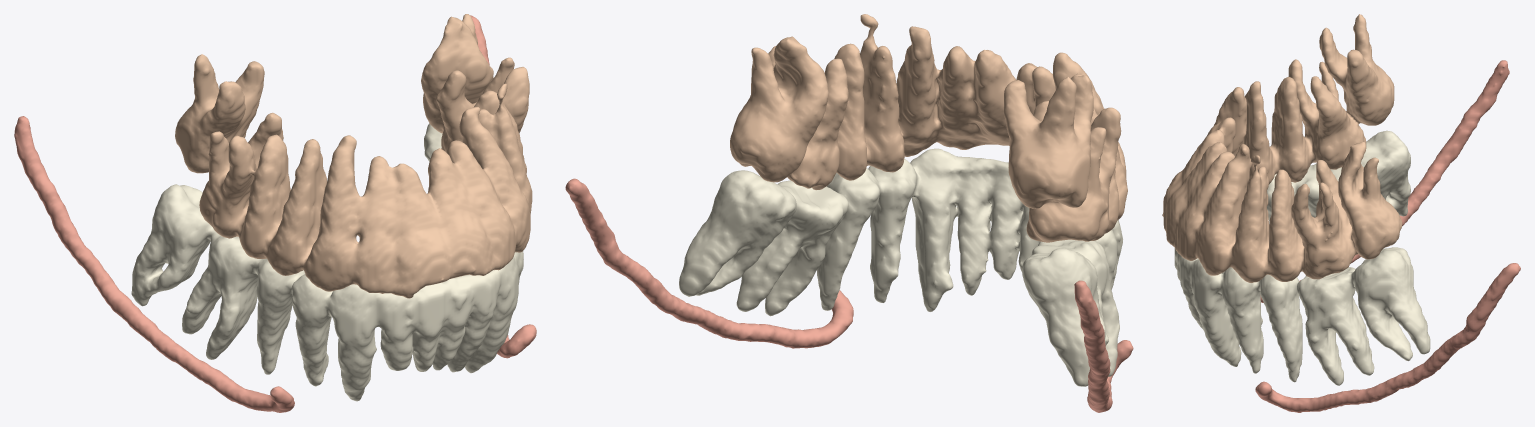
File: Surgical_Nerve_Clearance_scene.glb
The picture shows the model from 3 angles, left to right: view 1: azimuth 30°, elevation 25°; view 2: azimuth 150°, elevation 25°; view 3: azimuth 270°, elevation 25°; orthographic projection. The views are drawn at different scales.
Visible parts, largest first — view 1: upper_teeth, lower_teeth, mandibular_canal; view 2: upper_teeth, lower_teeth, mandibular_canal; view 3: upper_teeth, lower_teeth, mandibular_canal.
Part boxes in pixels (box(x1,y1,x2,y2)): upper_teeth: box(175, 14, 532, 298); lower_teeth: box(131, 123, 523, 401); mandibular_canal: box(14, 15, 536, 412); upper_teeth: box(730, 14, 1127, 242); lower_teeth: box(679, 148, 1122, 386); mandibular_canal: box(565, 178, 1133, 412); upper_teeth: box(1162, 14, 1402, 282); lower_teeth: box(1174, 130, 1430, 385); mandibular_canal: box(1255, 60, 1520, 412).
Size of the model in its own units: 84.02 by 57.24 by 64.59.
